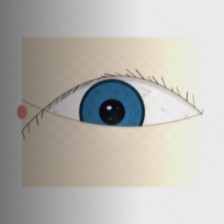pinguecula_lesion: (28, 105, 58, 129)
